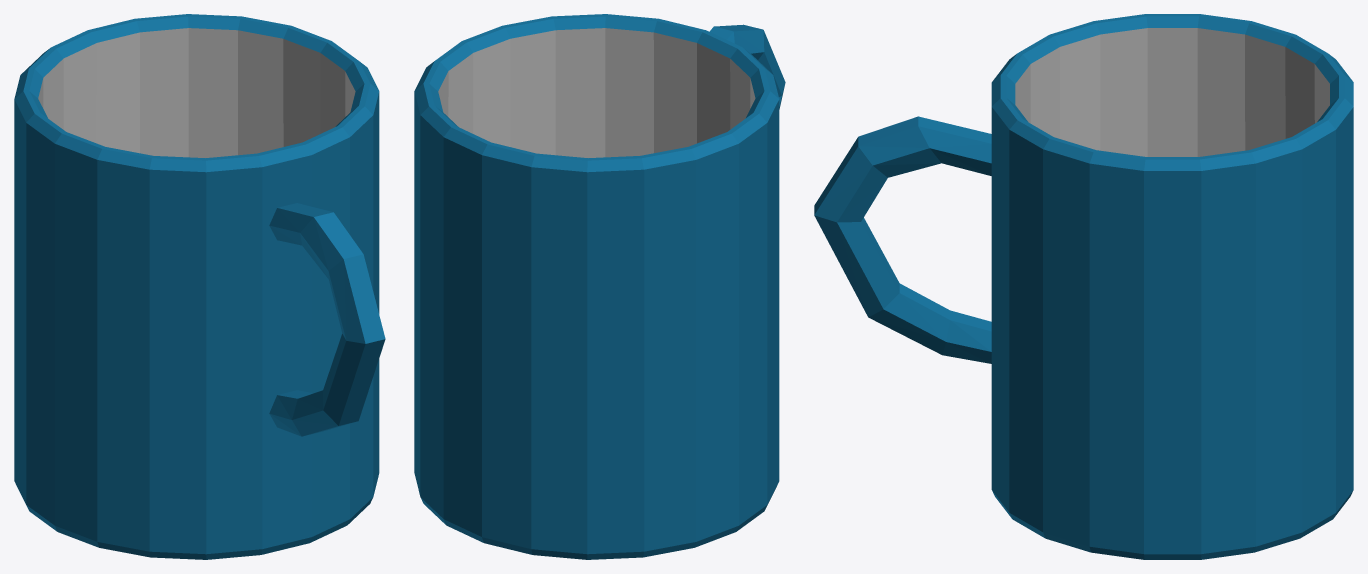
Rendered from mug.glb.
The picture shows the model from 3 angles, left to right: view 1: azimuth 30°, elevation 25°; view 2: azimuth 150°, elevation 25°; view 3: azimuth 270°, elevation 25°; orthographic projection.
Visible parts, largest first — view 1: mug; view 2: mug; view 3: mug.
Part boxes in pixels (<box>): mug: <box>14,14,385,559</box>; mug: <box>414,14,785,559</box>; mug: <box>814,14,1353,559</box>.
Bounding box in the file's own units: 0.0805 × 0.0984 × 0.12.
